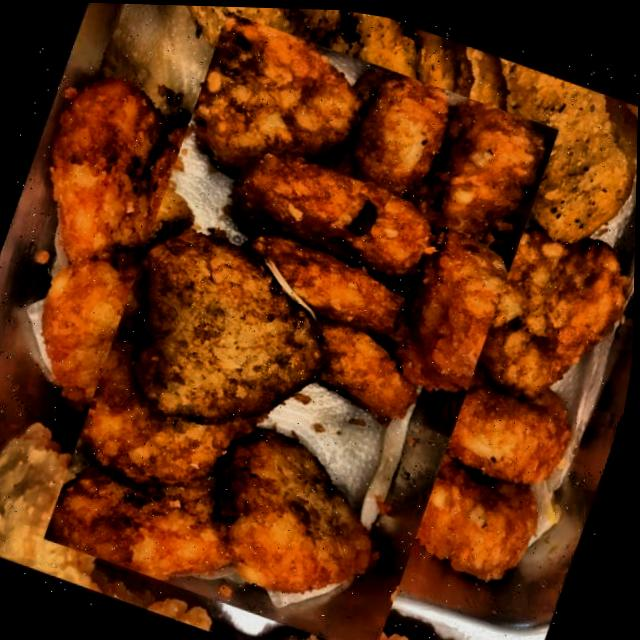Food: (0, 28, 604, 637)
